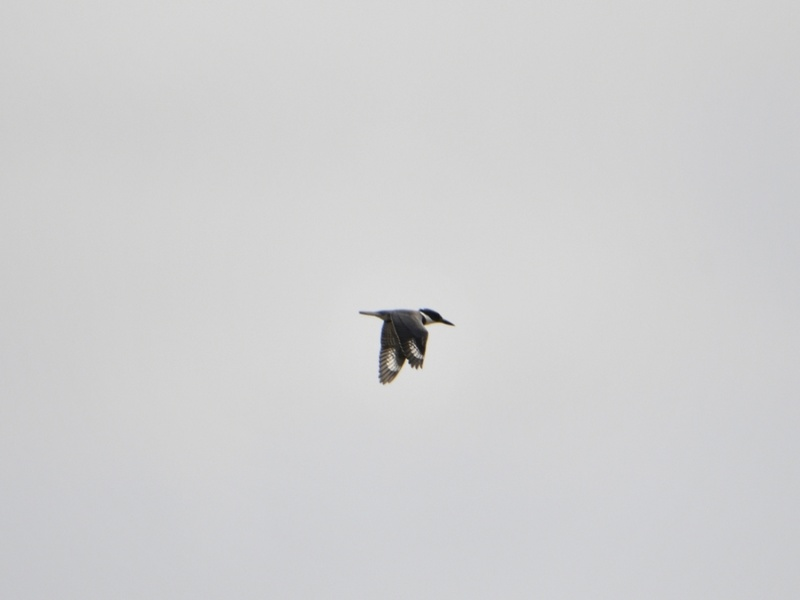kingfisher: (357, 305, 455, 386)
